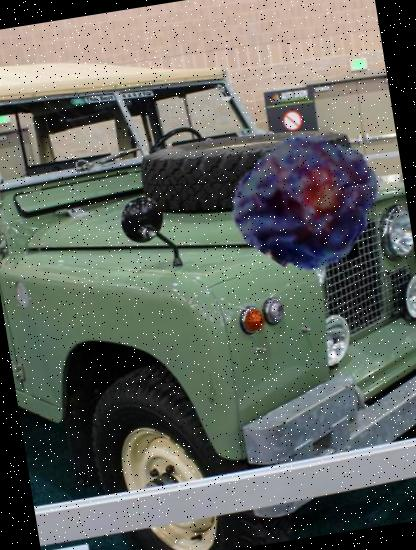Dates: (228, 121, 385, 278)
